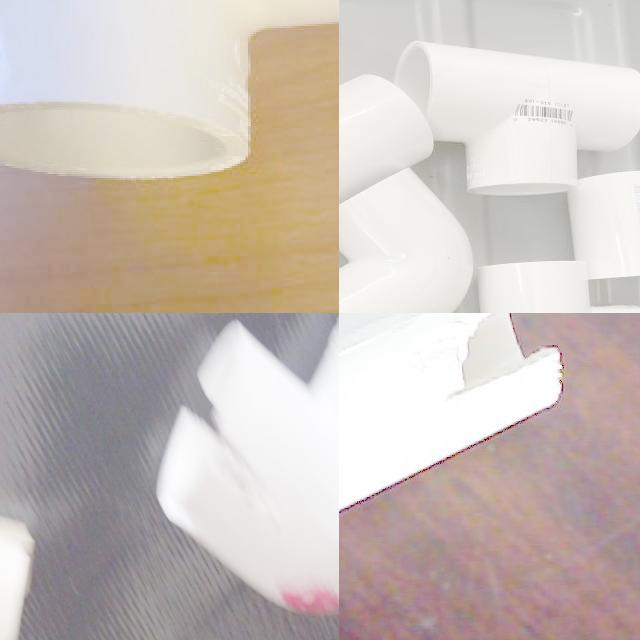Defective: (445, 313, 561, 396)
L Joint: (3, 313, 255, 539), (339, 170, 474, 313)
T Joint: (339, 313, 563, 516), (393, 42, 640, 194), (477, 257, 640, 313)
